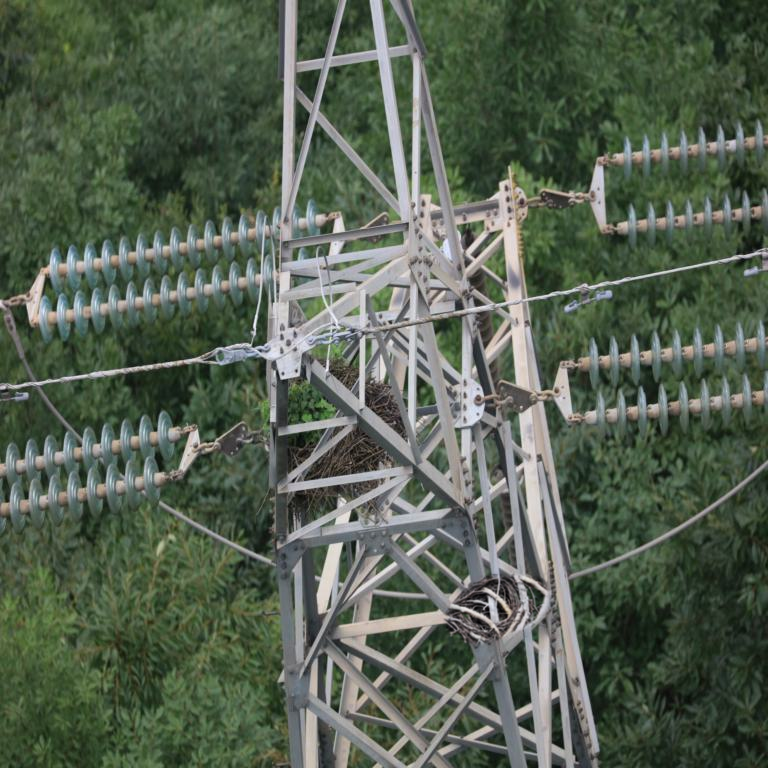nest: (291, 363, 383, 482), (449, 579, 516, 639)
